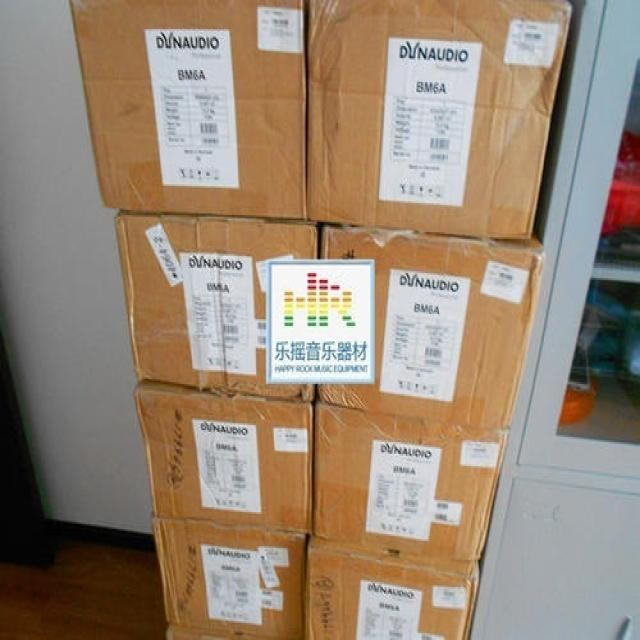box: (305, 1, 573, 238), (69, 0, 310, 219), (318, 225, 544, 430), (112, 212, 319, 400), (310, 400, 508, 562), (131, 381, 316, 536), (151, 513, 305, 635), (302, 535, 482, 638), (163, 616, 231, 638)
